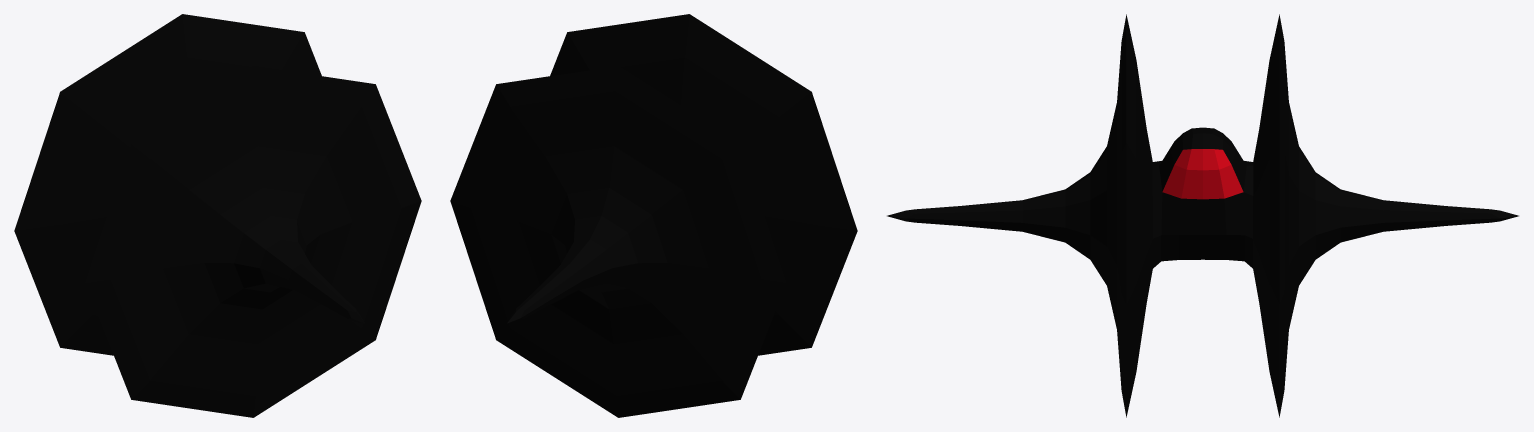
The model's file is Enemy_01.glb.
The picture shows the model from 3 angles, left to right: view 1: azimuth 30°, elevation 25°; view 2: azimuth 150°, elevation 25°; view 3: azimuth 270°, elevation 25°; orthographic projection. The views are drawn at different scales.
Visible parts, largest first — view 1: Cube; view 2: Cube; view 3: Cube.
Boxes of the visible parts, <box> form: Cube: <box>14,14,421,417</box>; Cube: <box>450,14,857,417</box>; Cube: <box>887,14,1518,417</box>.
Size of the model in its own units: 8.45 by 8.45 by 12.81.
